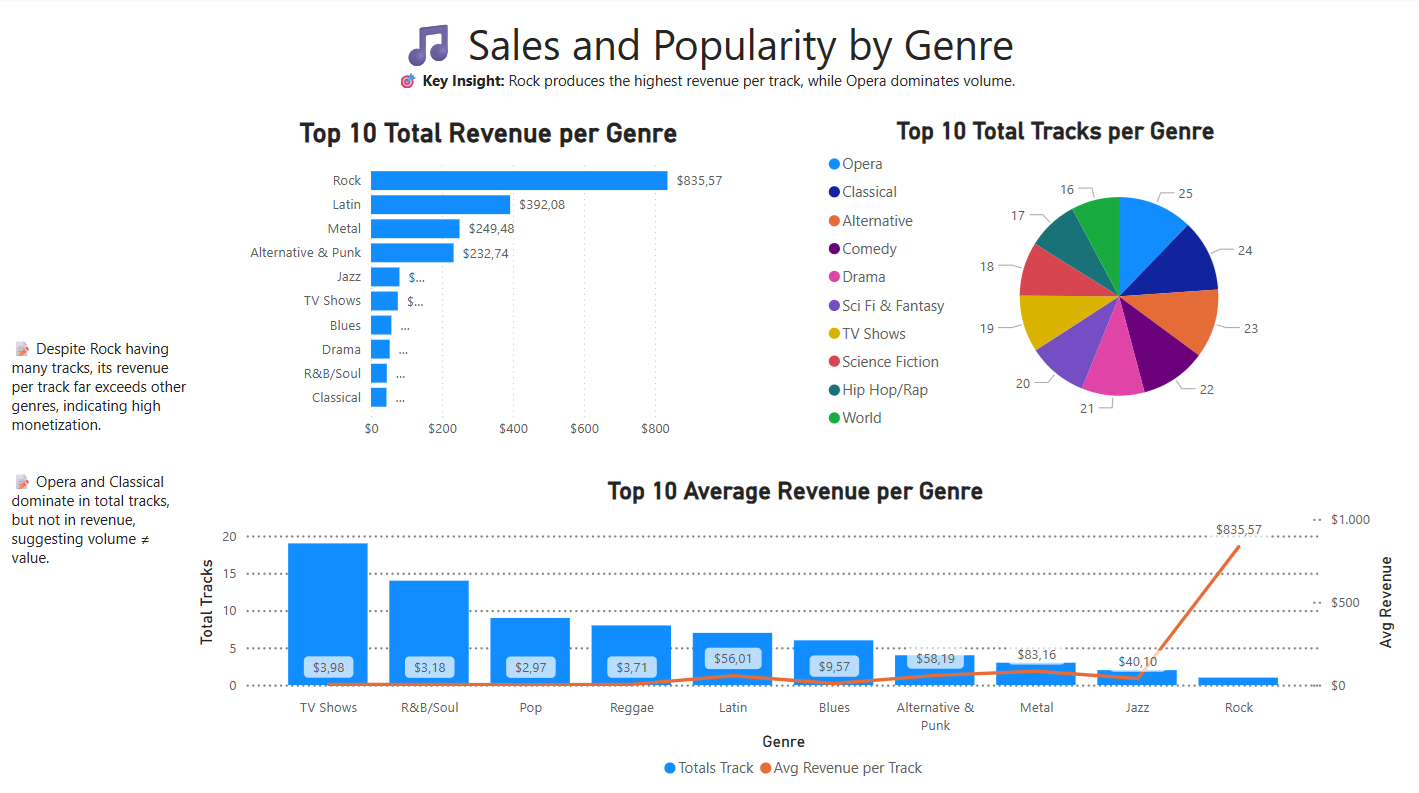

The dashboard page shown, as its layout file describes it:
{"tool":"powerbi","page":{"name":"🎵 Sales and Popularity by Genre","canvas":[1280,720],"ordinal":0},"visuals":[{"type":"clusteredBarChart","title":"Top 10 Total Revenue per Genre","fields":{"Category":["Genre.Name"],"Y":["InvoiceLine.Total Revenue"]},"box":[212.8,107.7,457,298.1],"z":0},{"type":"pieChart","title":"Top 10 Total Tracks per Genre","fields":{"Category":["Genre.Name"],"Y":["Track.Totals Track"]},"box":[740.6,107.7,419.3,298.1],"z":1000},{"type":"textbox","box":[8.1,11.7,1257.8,87.1],"z":2000},{"type":"lineClusteredColumnComboChart","title":"Top 10 Average Revenue per Genre","fields":{"Category":["Genre.Name"],"Y":["Track.Totals Track"],"Y2":["Track.Avg Revenue per Track"]},"box":[175.1,430.9,1083.5,280.1],"z":2001},{"type":"textbox","box":[7.8,114.8,167.3,596.2],"z":2002}]}

Visuals, with their boxes in screenshot pixels (x1, y1, x2, y2), scaled from the page's 1280x720 canvas onto the 1419x793 screenshot:
"Top 10 Total Revenue per Genre" clusteredBarChart: <box>236,119,743,447</box>
"Top 10 Total Tracks per Genre" pieChart: <box>821,119,1286,447</box>
textbox: <box>9,13,1403,109</box>
"Top 10 Average Revenue per Genre" lineClusteredColumnComboChart: <box>194,475,1395,783</box>
textbox: <box>9,126,194,783</box>
